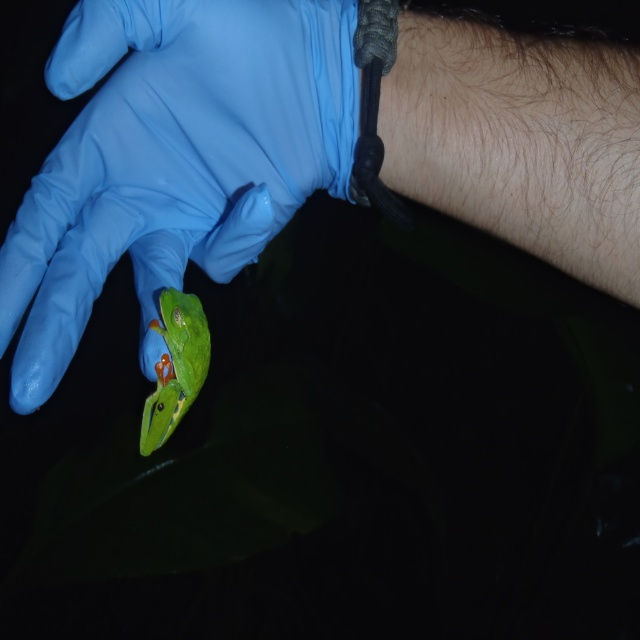Frog: (142, 285, 205, 460)
